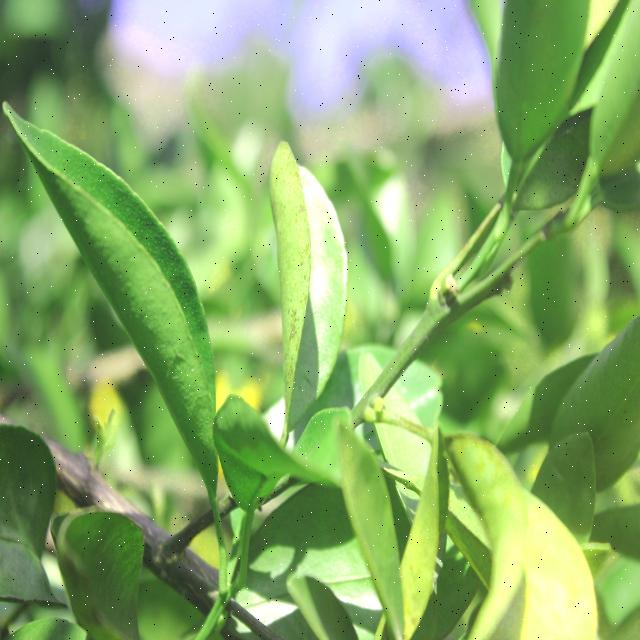melanose: (451, 437, 605, 640), (263, 142, 359, 433), (397, 421, 450, 640)
